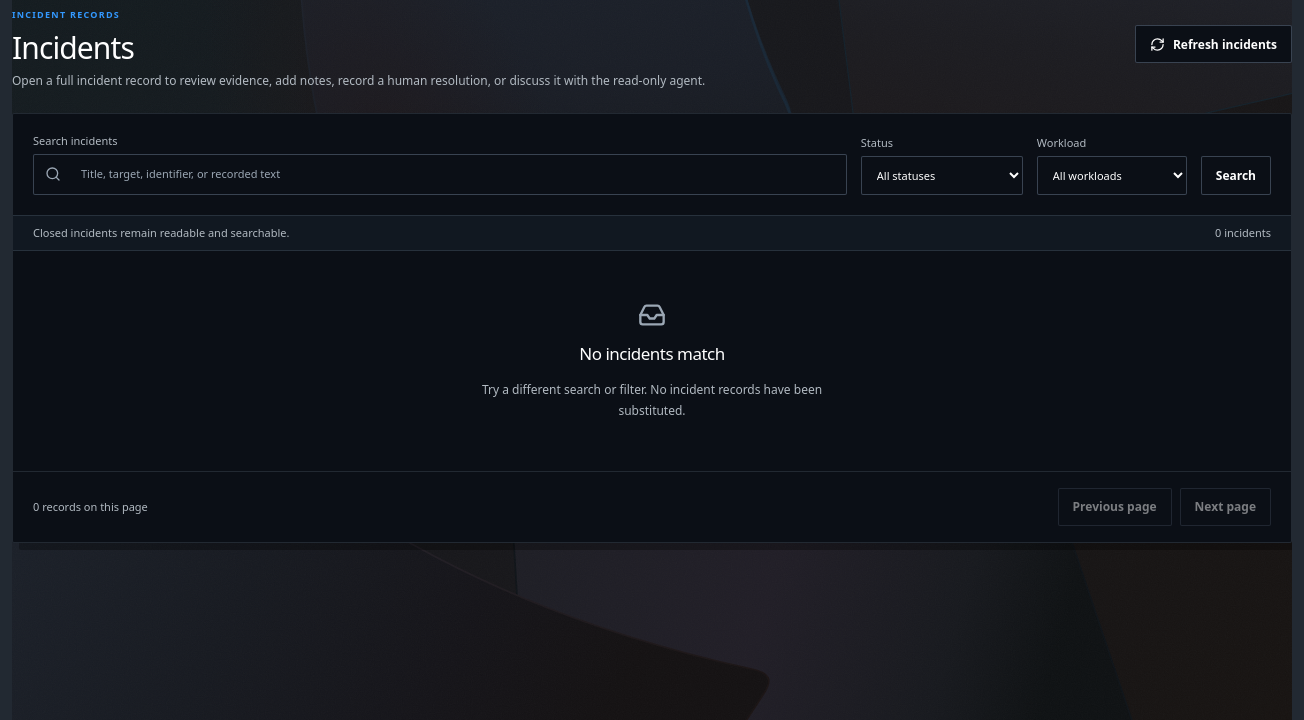
Test case: incident directory and record navigation › labels the combined closed-status filter without conflating manual and verified resolution
Expected: the heading "No incidents match" is shown, 579,341 -> 725,367
Select "All closed incidents" in the dropdown labelled "Status": (942, 175) 861,156 -> 1023,195
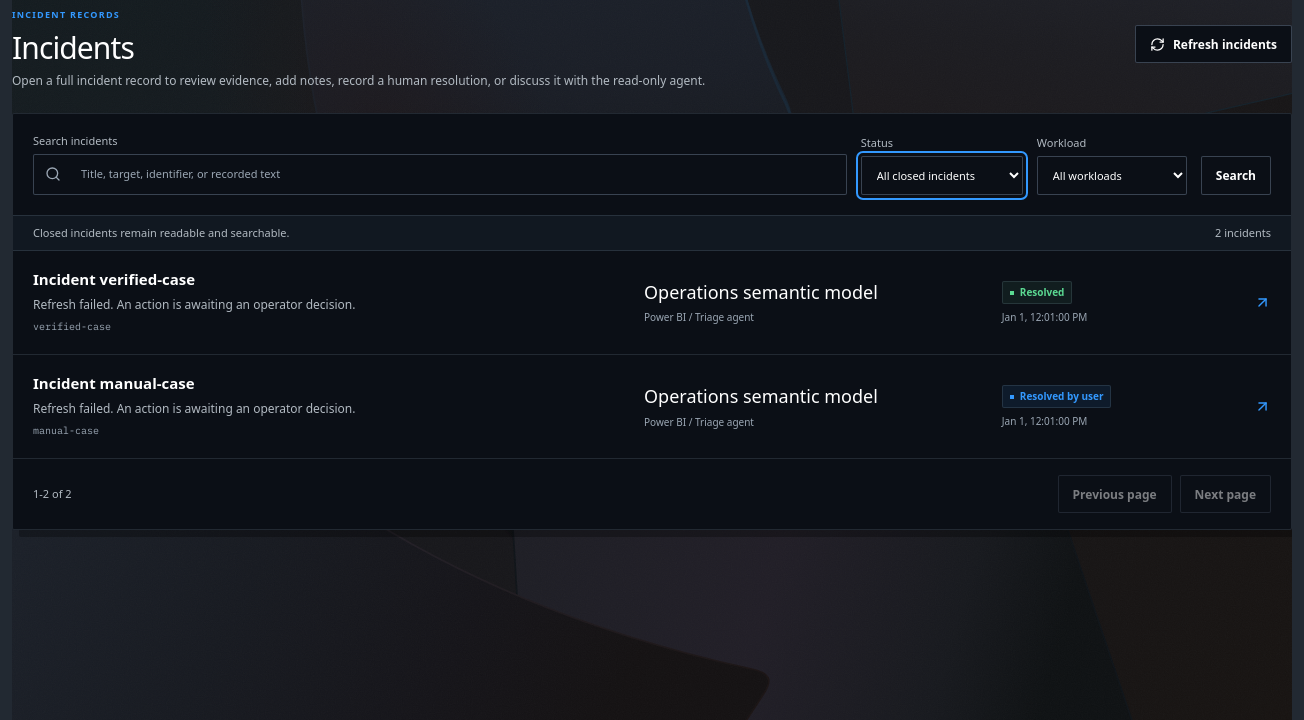
Expected: the text "Resolved" is shown, 1002,281 -> 1072,304
Expected: the text "Resolved by user" is shown, 1002,385 -> 1112,408
